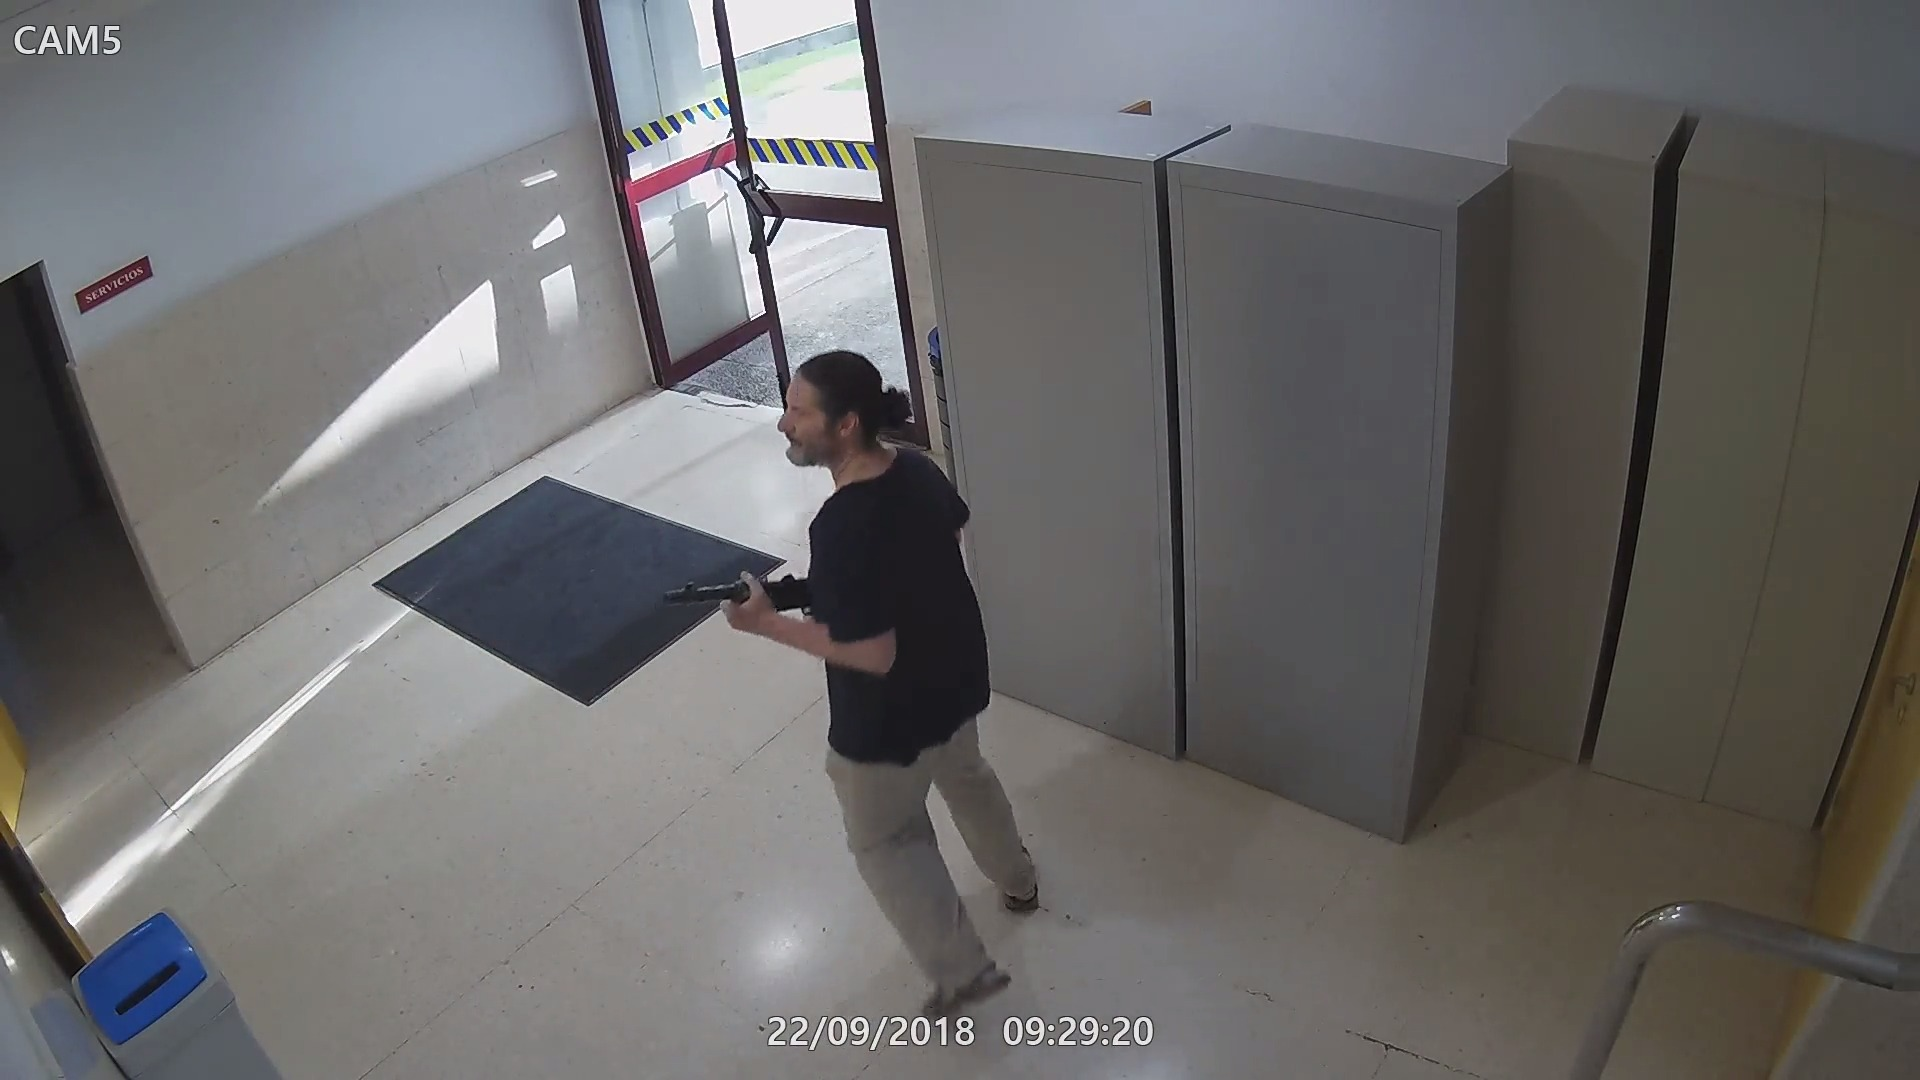Short_rifle: (663, 575, 818, 646)
